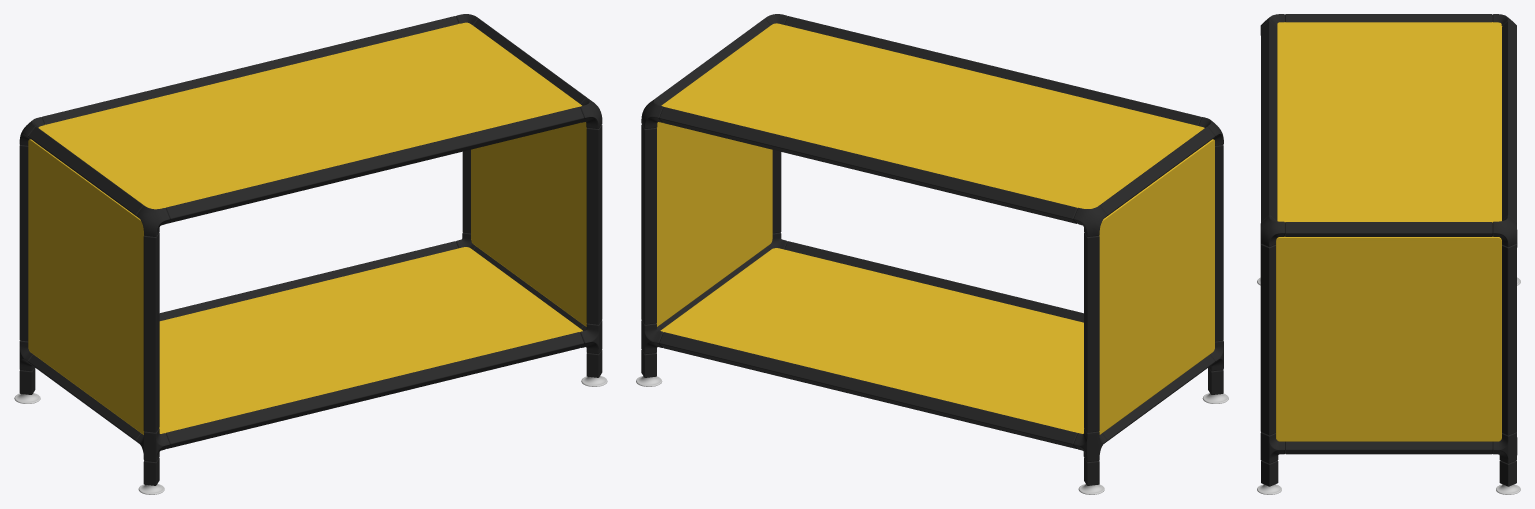
3 renders of one model, left to right at view 1: azimuth 30°, elevation 25°; view 2: azimuth 150°, elevation 25°; view 3: azimuth 270°, elevation 25°, orthographic. The views are drawn at different scales.
Parts seen in each view (by area): view 1: 729x329x329; view 2: 729x329x329; view 3: 729x329x329.
Boxes of the visible parts, x1,y1,x2,y2 form: 729x329x329: (14, 14, 607, 494); 729x329x329: (636, 14, 1228, 494); 729x329x329: (1257, 14, 1520, 494).
Bounding box in the file's own units: 0.8189 × 0.4683 × 0.4182.
